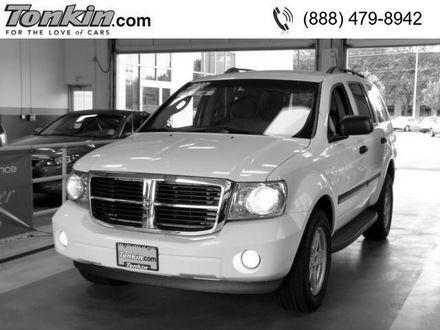car: (39, 59, 416, 322)
